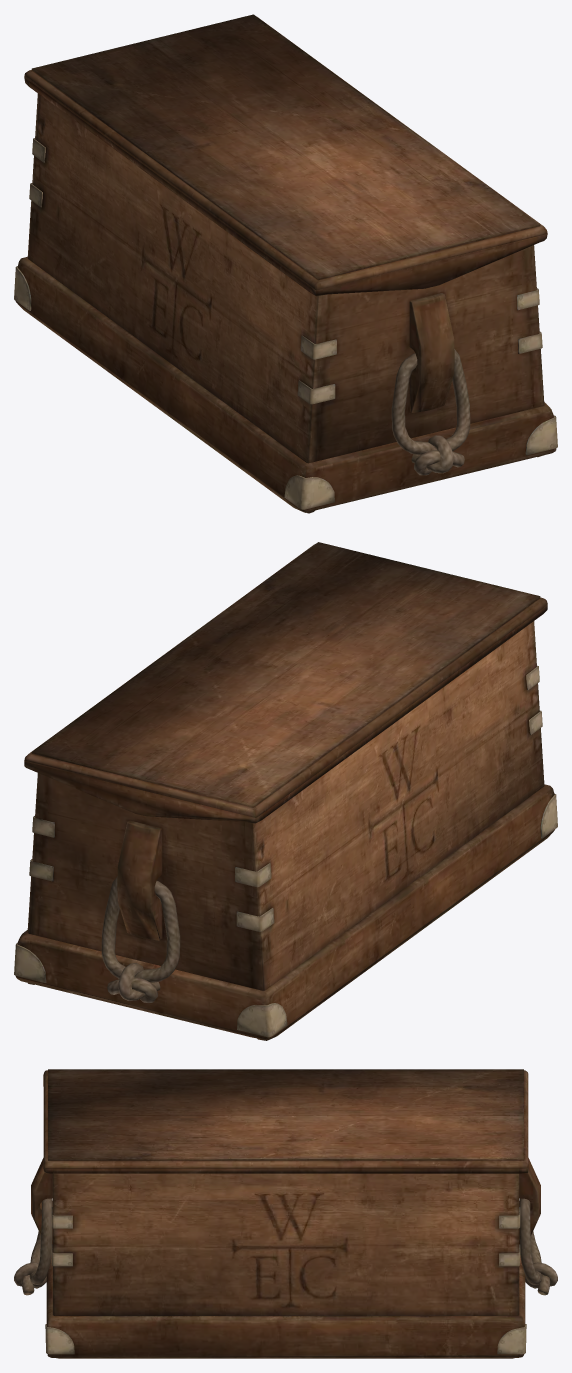
File: wooden-crate-2.glb
3 views of the same model, one above another, from view 1: azimuth 30°, elevation 25°; view 2: azimuth 150°, elevation 25°; view 3: azimuth 270°, elevation 25° (orthographic). The views are drawn at different scales.
Visible parts, largest first — view 1: wooden_crate_02_crate; view 2: wooden_crate_02_crate; view 3: wooden_crate_02_crate.
Boxes of the visible parts, x1=… form: wooden_crate_02_crate: x1=14, y1=14, x2=557, y2=513; wooden_crate_02_crate: x1=14, y1=542, x2=557, y2=1040; wooden_crate_02_crate: x1=14, y1=1069, x2=557, y2=1358.
Size of the model in its own units: 0.5291 by 0.4639 by 1.17.
Materials: 1 (1 with a texture image).
